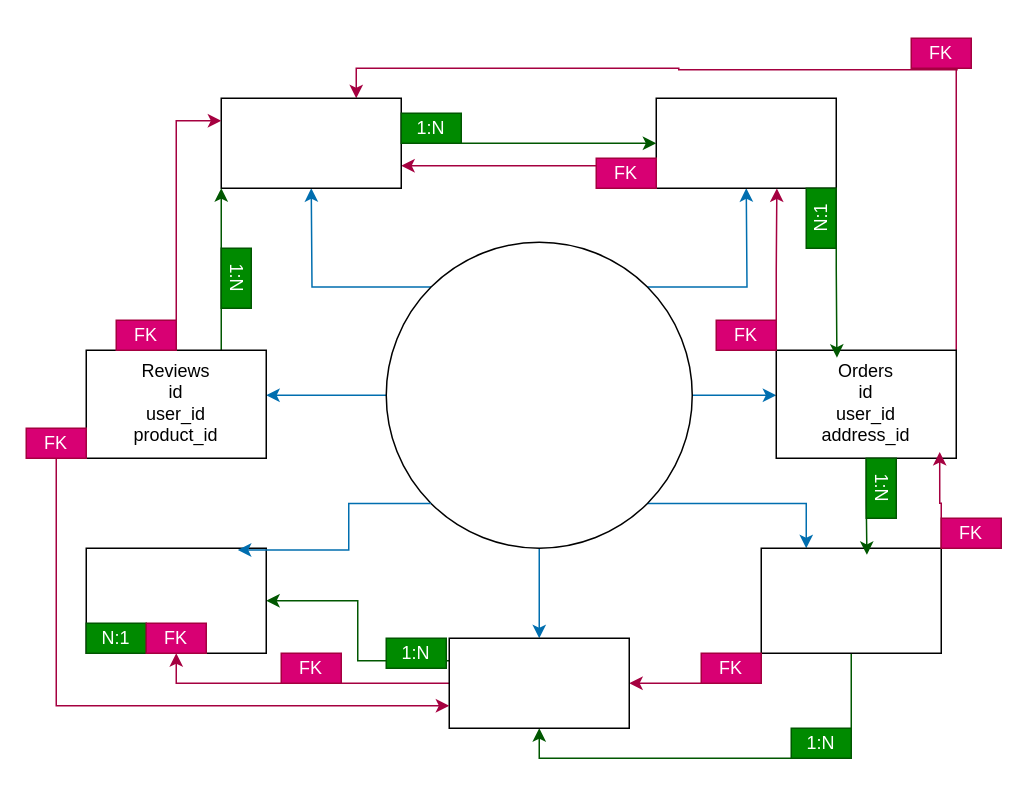
The diagram is 1028 pixels wide and 797 high, and some of its shapes have lost their labels. Each missing label, with the box of its shape:
Addressed id user_id: (655, 97, 836, 188)
Categories id parent_id: (85, 547, 266, 653)
Order_items id order_id product_id: (760, 547, 941, 653)
Products id category_id: (448, 637, 629, 728)
Users id: (220, 97, 401, 188)
Интернет Магазин: (385, 241, 692, 548)
